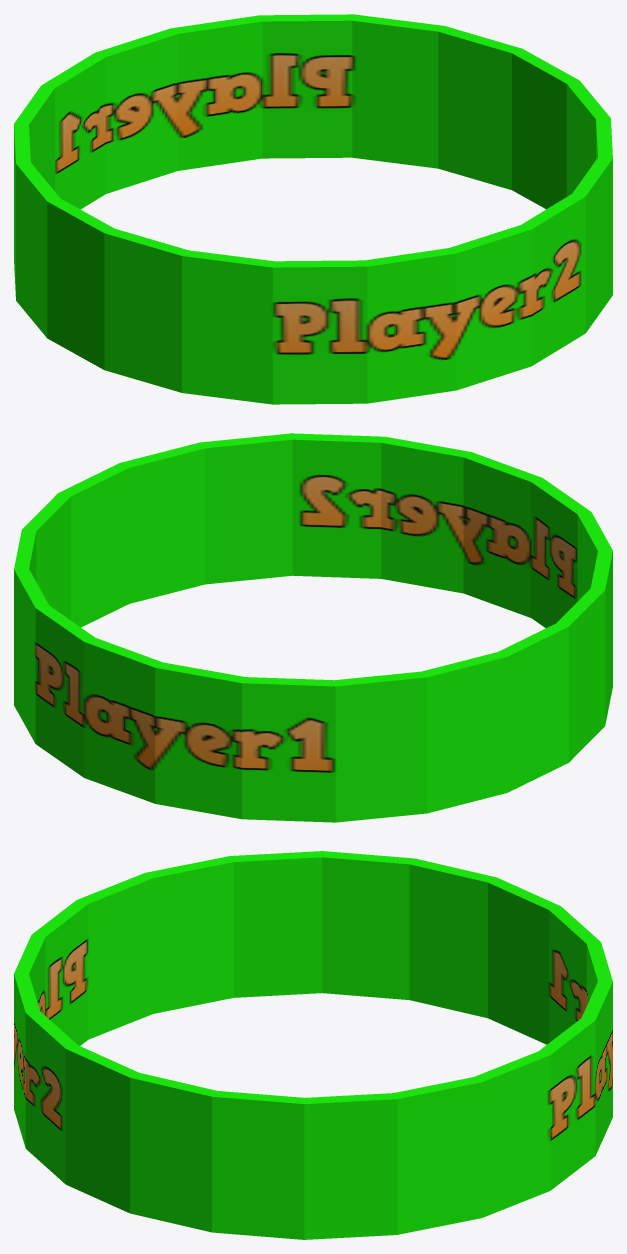
The model's file is SceenTrans.fbx.
3 views of the same model, one above another, from view 1: azimuth 30°, elevation 25°; view 2: azimuth 150°, elevation 25°; view 3: azimuth 270°, elevation 25° (orthographic).
Parts seen in each view (by area): view 1: polySurface1; view 2: polySurface1; view 3: polySurface1.
Boxes of the visible parts, x1,y1,x2,y2 form: polySurface1: (14,14,612,404); polySurface1: (14,433,612,822); polySurface1: (14,851,612,1239).
Bounding box in the file's own units: 4 × 1 × 4.
1 material, 1 textured.
